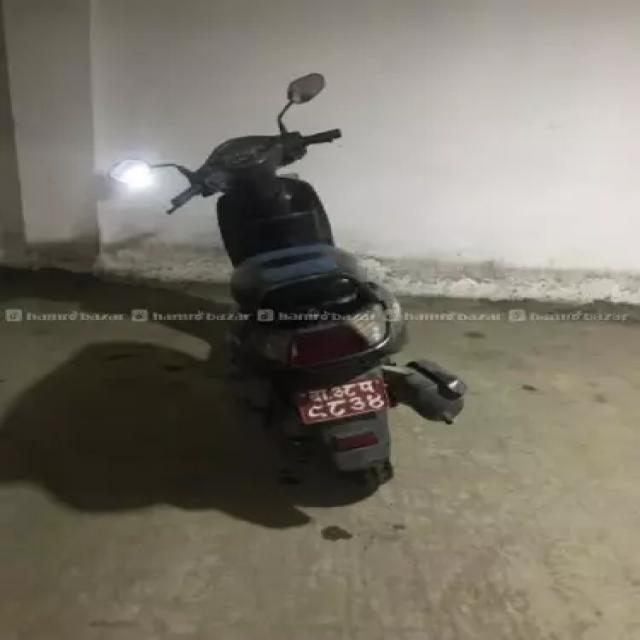License-plate: (286, 377, 398, 426)
